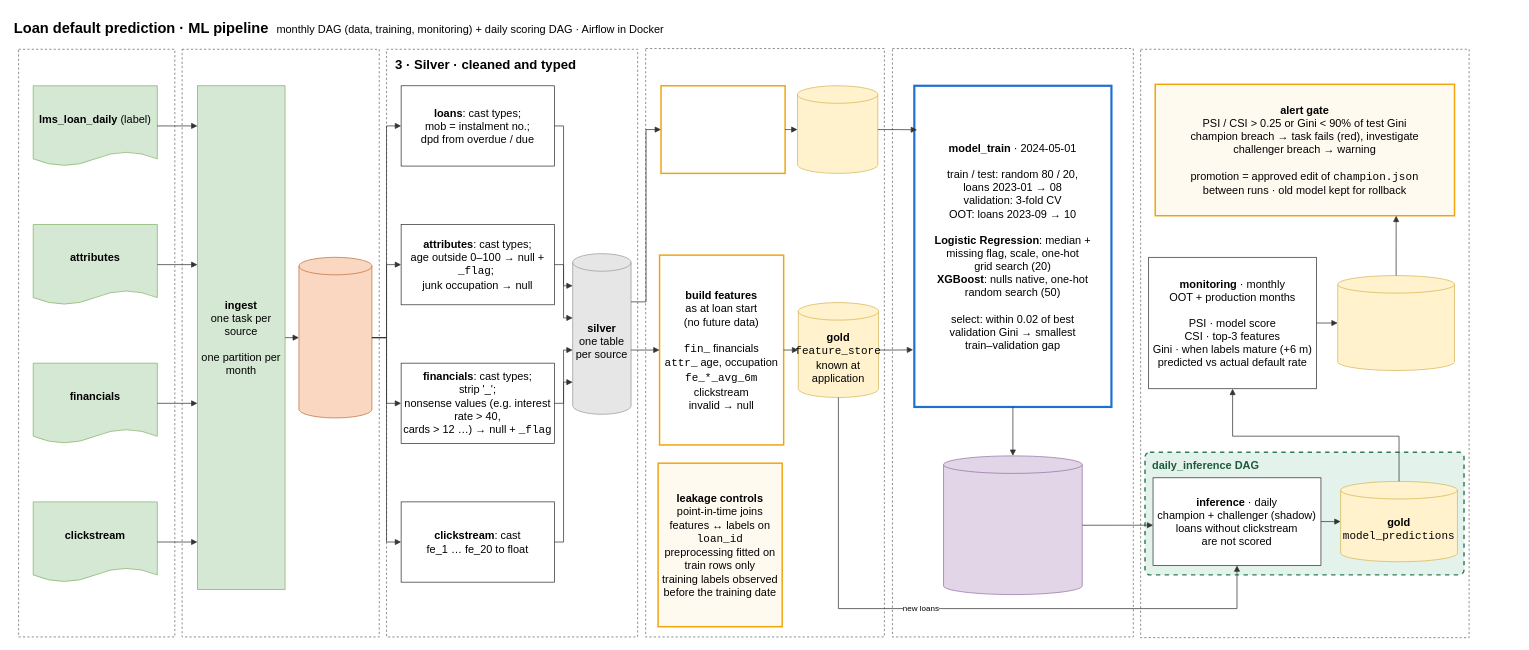
Some shapes in this 1529 by 650 pixel diagram are drawn without their labels. The shapes that lost their labels are listed below. From the top down, each one's box as (x1, y1, x2, y2) in pixels, then its label:
(660, 85, 785, 174): build labels 30 DPD at MOB 6 label date = loan start + 6 months
(797, 85, 878, 173): gold label_store outcome
(298, 257, 372, 418): bronze CSV as received 4 tables
(645, 48, 884, 637): 4 · Gold · one row per loan
(892, 48, 1133, 637): 5 · Train · model bank
(1337, 275, 1455, 370): gold model_monitoring tables + charts
(18, 49, 175, 637): 1 · Sources · arrival
(181, 49, 379, 637): 2 · Bronze · as received
(1140, 49, 1469, 638): 6 · Serve · monitor
(943, 455, 1082, 595): model_bank 2 pickles + champion.json champion: XGBoost OOT Gini 0.731
